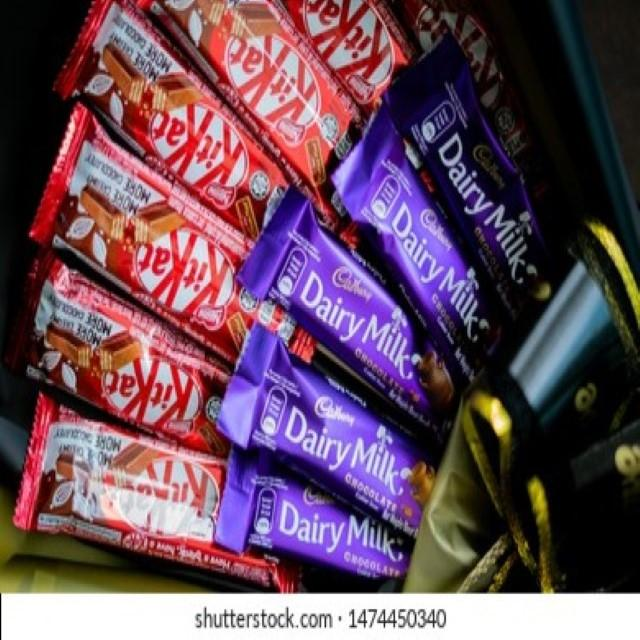cadbury_chocolate: (253, 197, 478, 438), (400, 50, 573, 320), (223, 333, 442, 533), (338, 128, 505, 378), (233, 465, 410, 593)
kitkat_chocolate: (27, 135, 285, 370), (48, 7, 297, 232), (25, 413, 287, 587), (153, 0, 367, 195), (15, 273, 242, 455), (290, 7, 415, 98)
